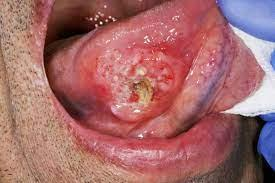Ulcer: (103, 62, 167, 118)
